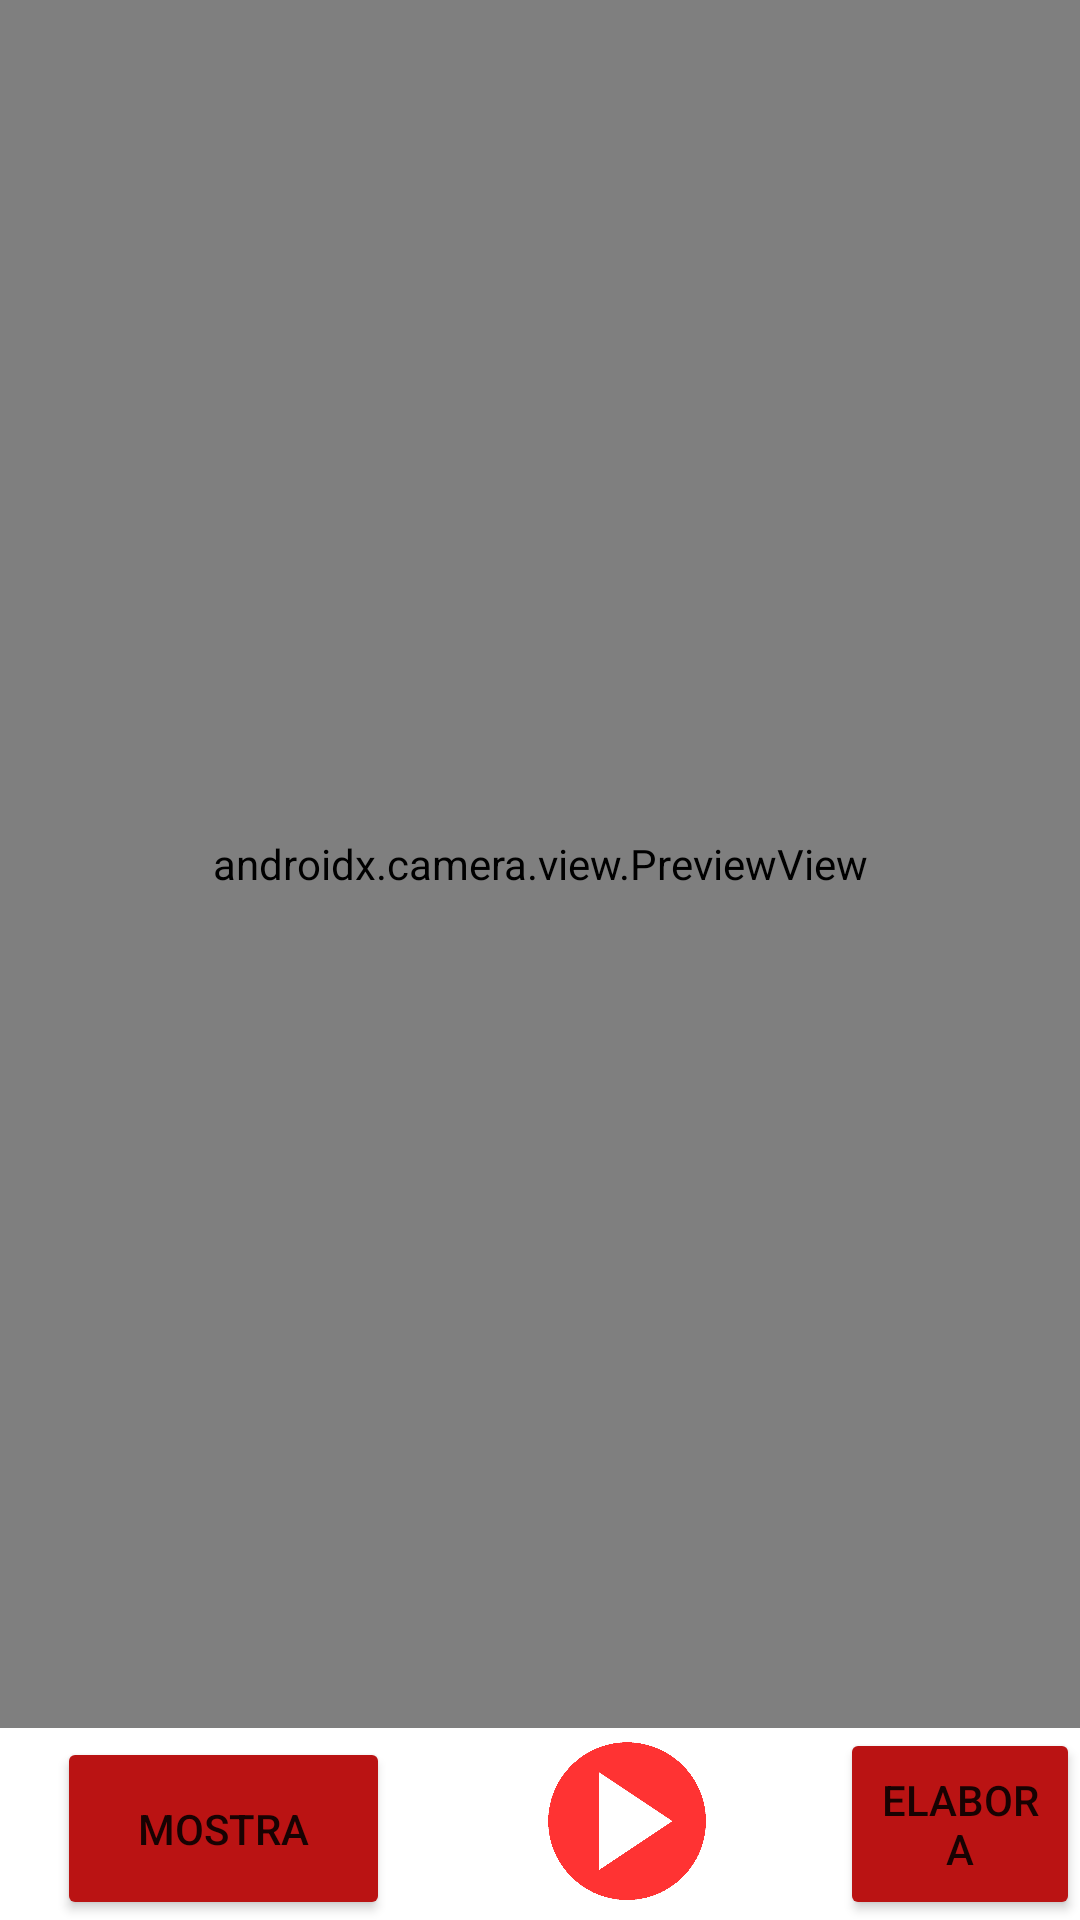

Named icons in this screenshot (1080px x 1920px) and their bounding boxes, [left=x1, top=y1, right=x2, bottom=y2]:
start: [left=548, top=1742, right=706, bottom=1900]
